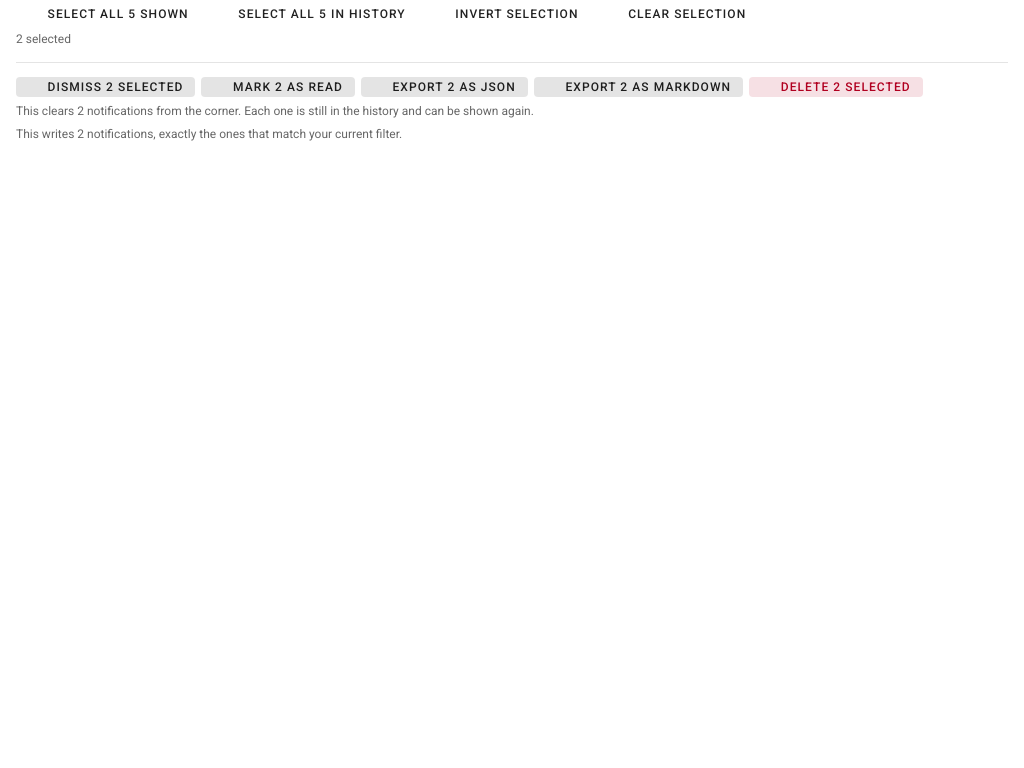
Test: delete: behind the gate, not a plain click › names the exact count and cannot be undone, before anything happens
Click the button "Delete 2 selected". click: (836, 87)
box: [749,77,923,97]
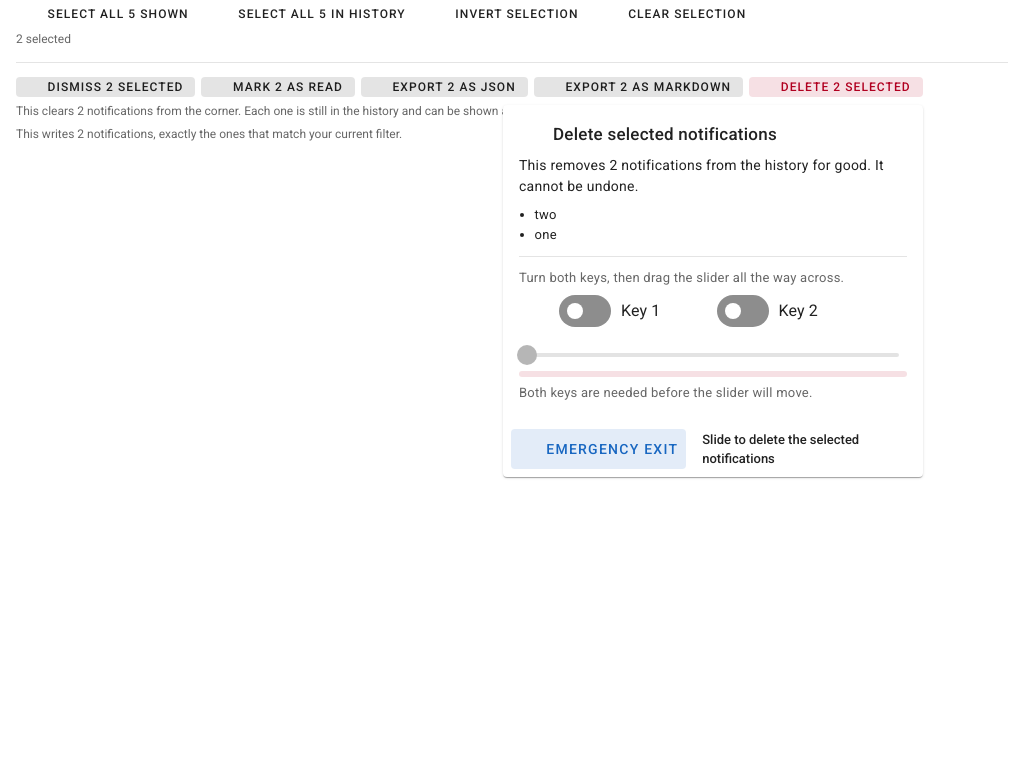
Now the text "This removes 2 notifications from the history for good" is shown, box [519,157,884,194]
Now the text "cannot be undone" is shown, box [519,157,884,194]
